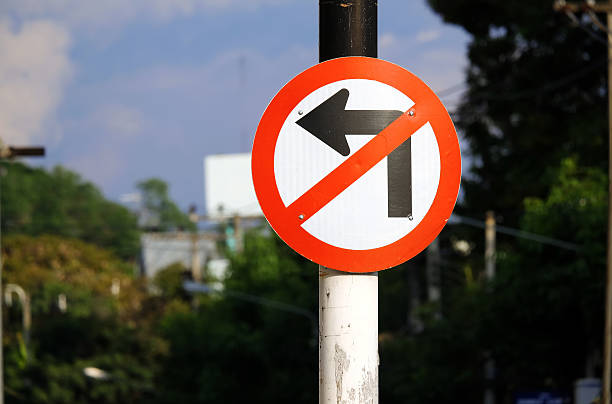sola_girilmez: (249, 50, 464, 276)
